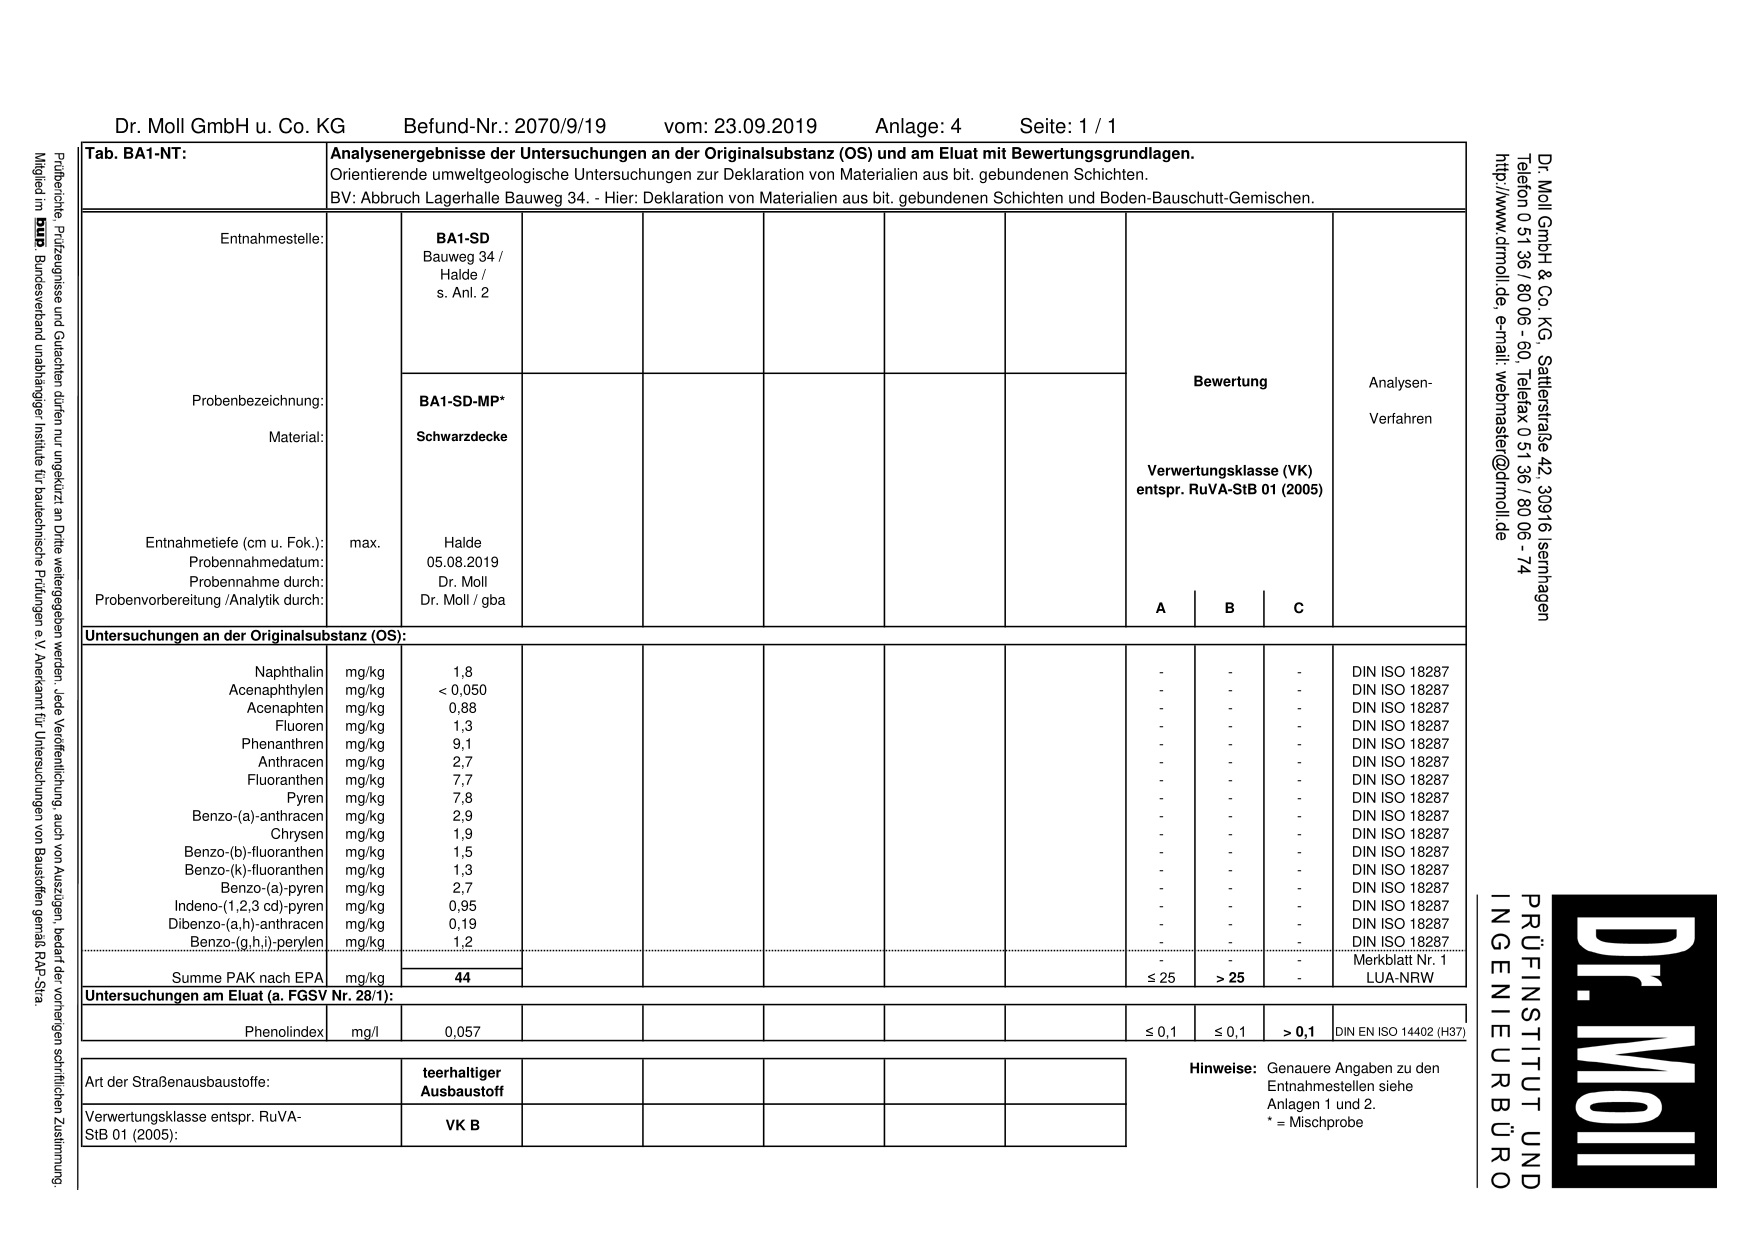table: (154, 657, 1461, 987)
